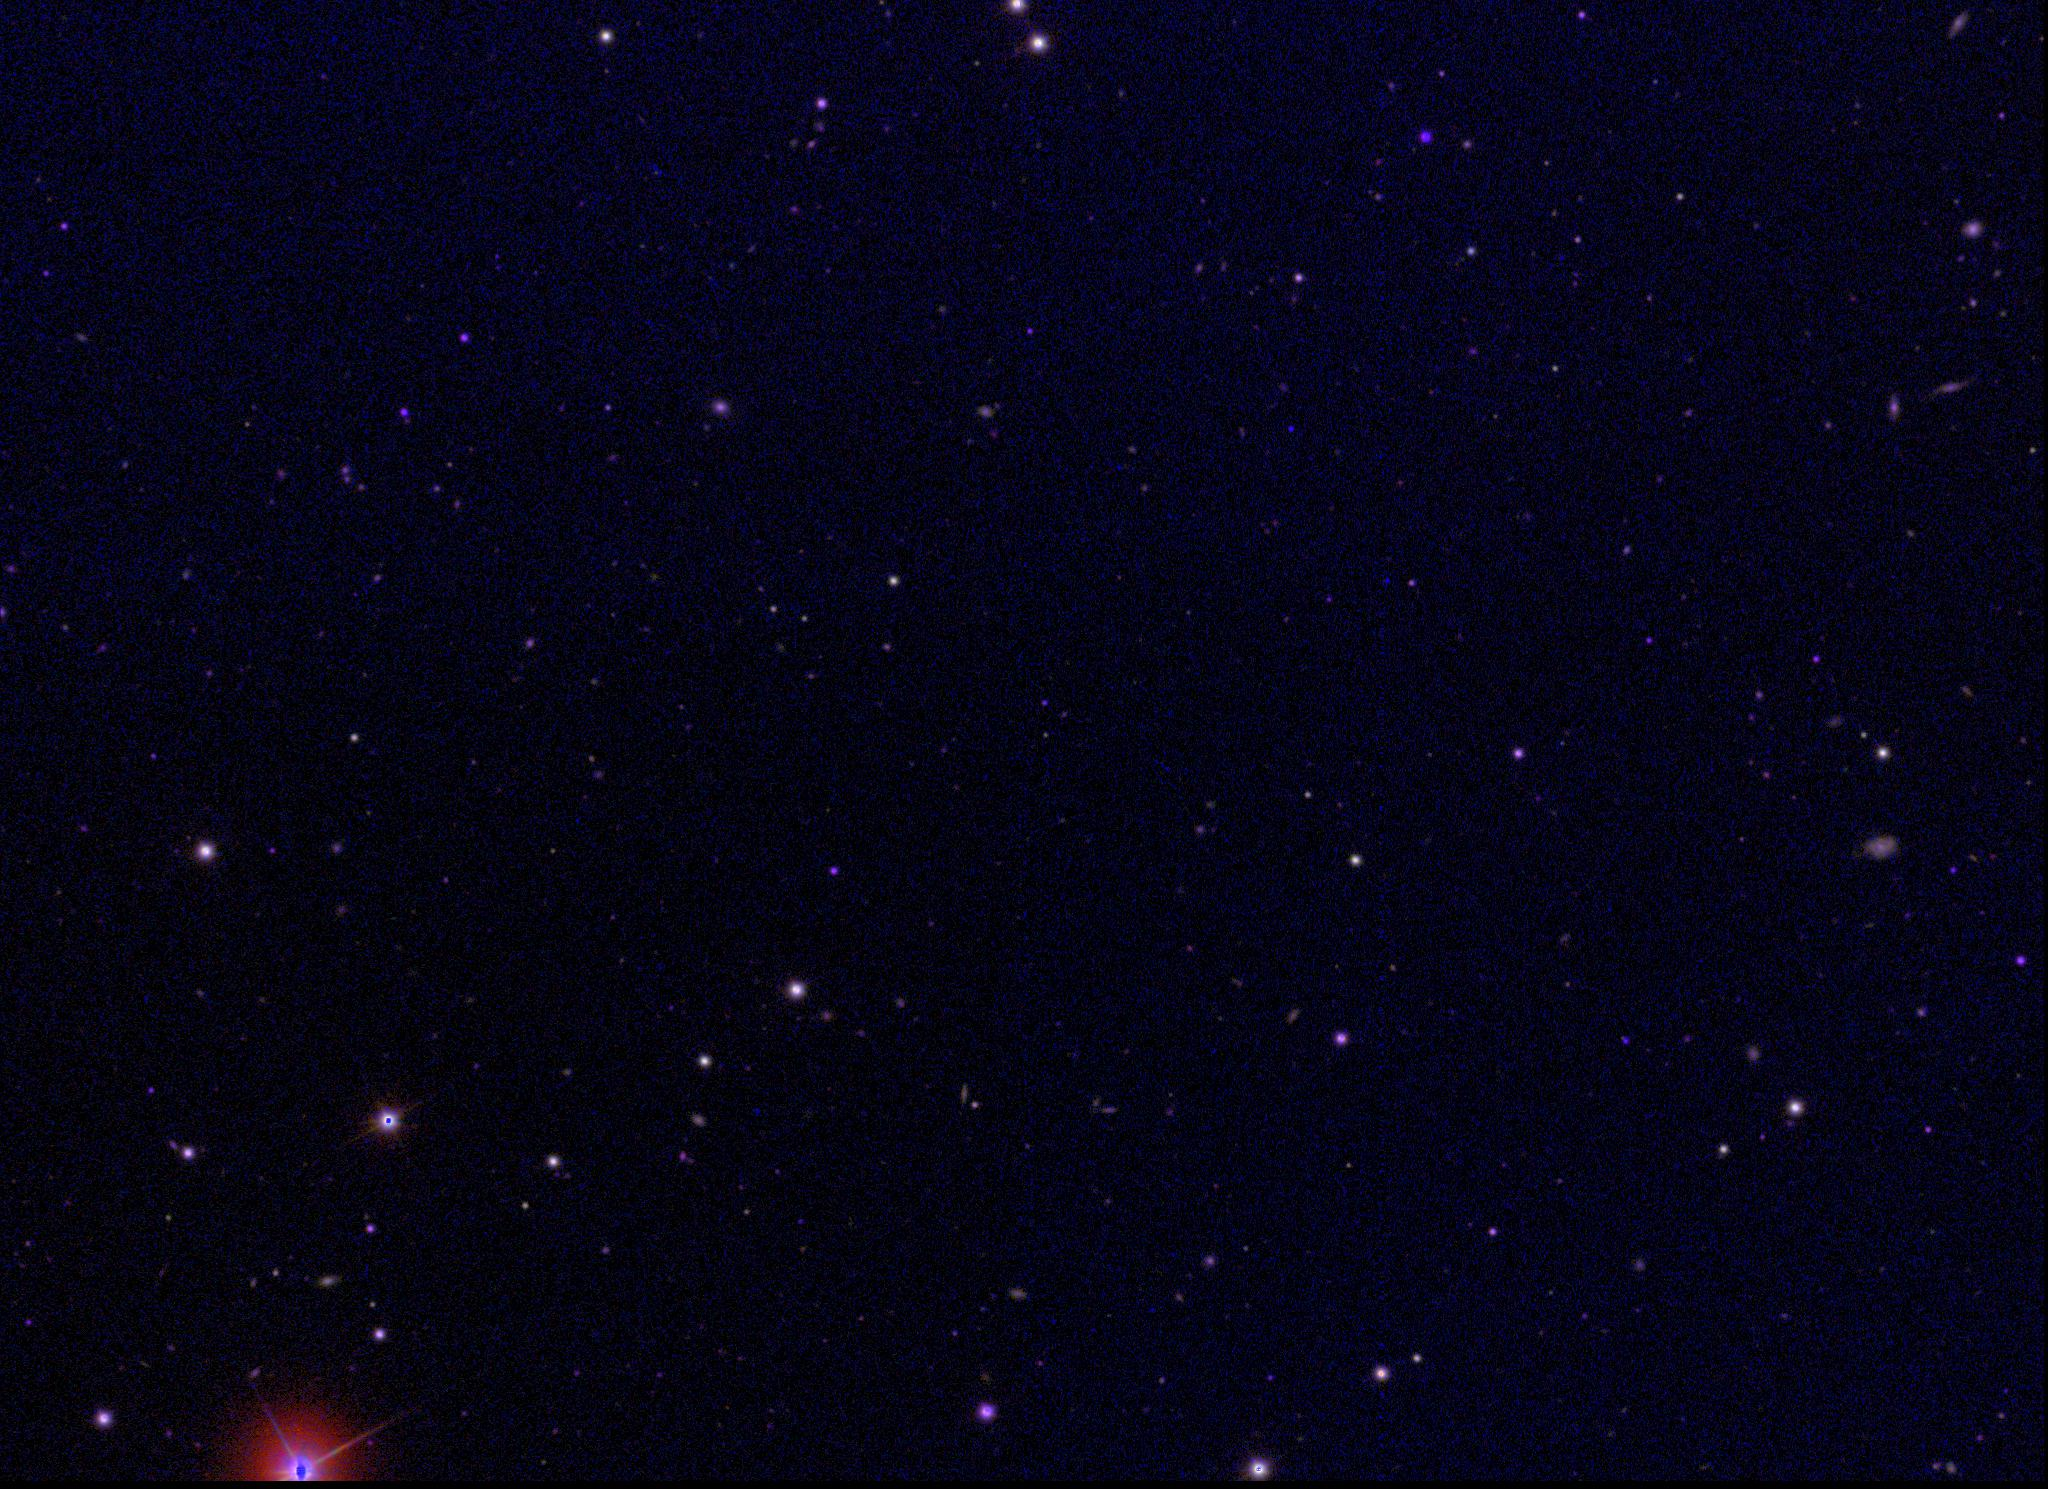L: (1285, 420, 1297, 434)
